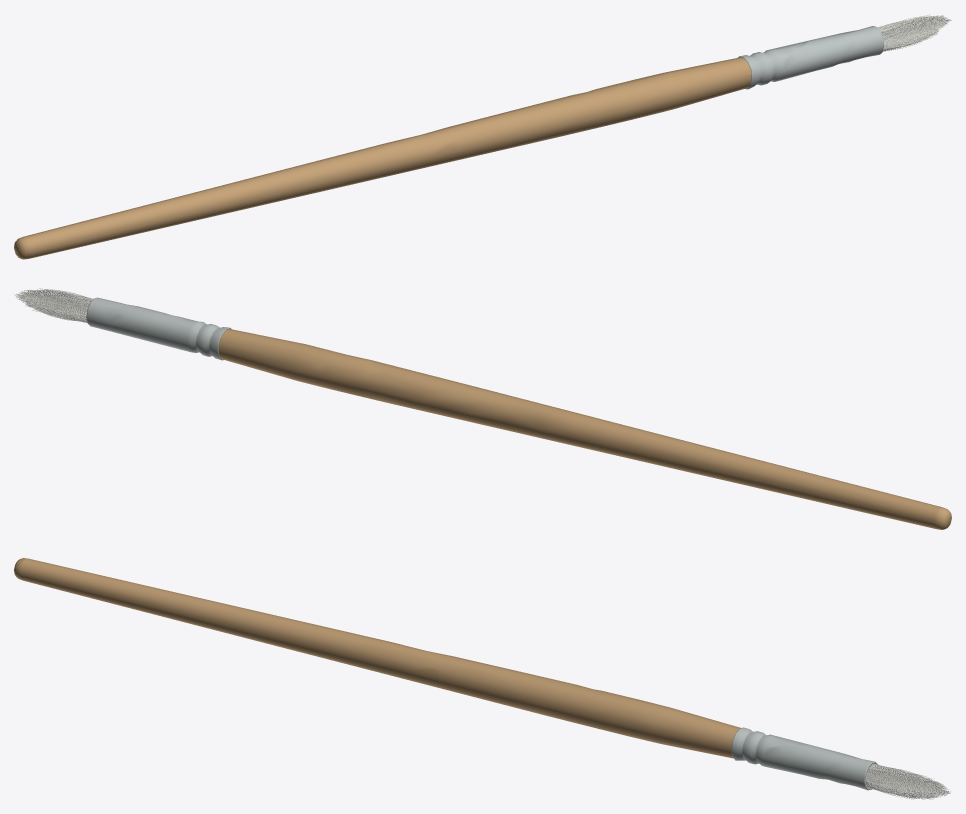
Rendered from paint_supplies_brush_a10.glb.
3 views of the same model, one above another, from view 1: azimuth 30°, elevation 25°; view 2: azimuth 150°, elevation 25°; view 3: azimuth 330°, elevation 25° (orthographic).
Size of the model in its own units: 0.2559 by 0.00902 by 0.00906.
